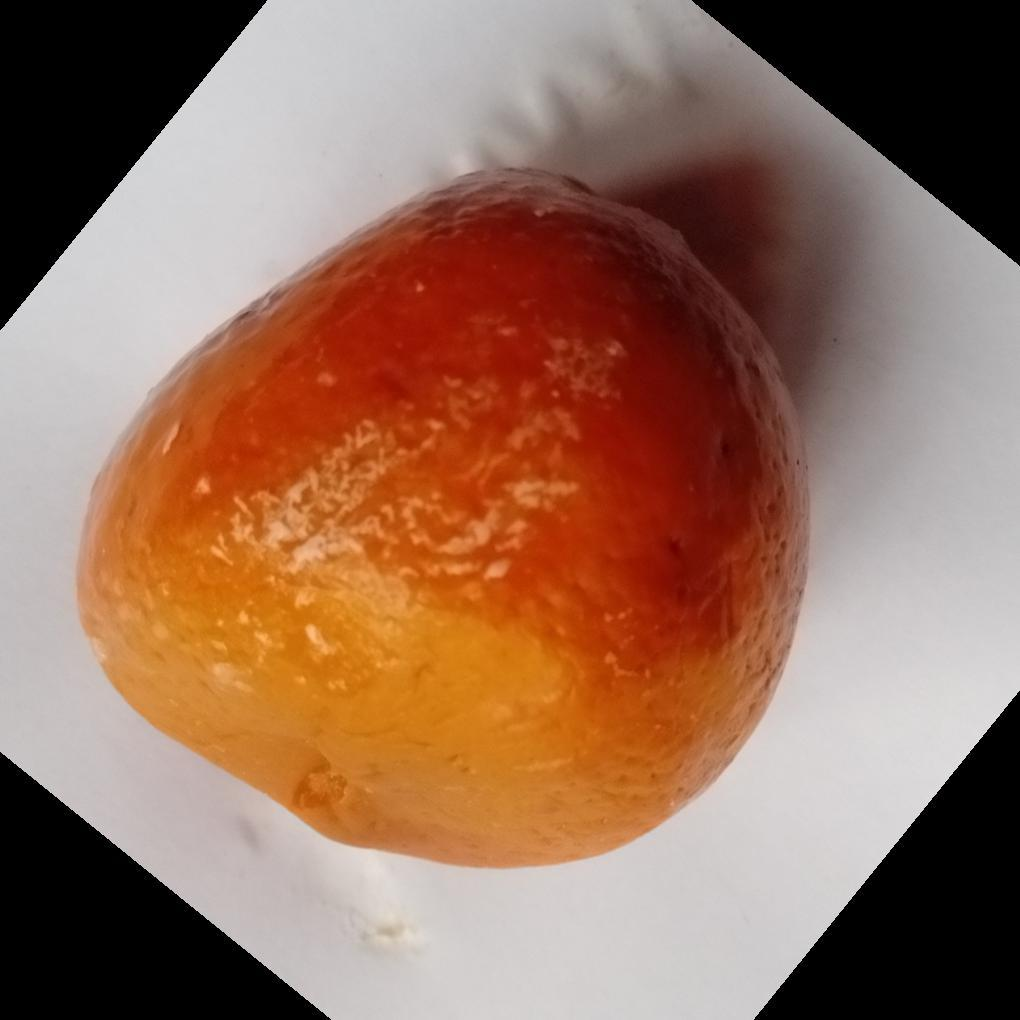FreshOrange: (72, 169, 811, 874)
